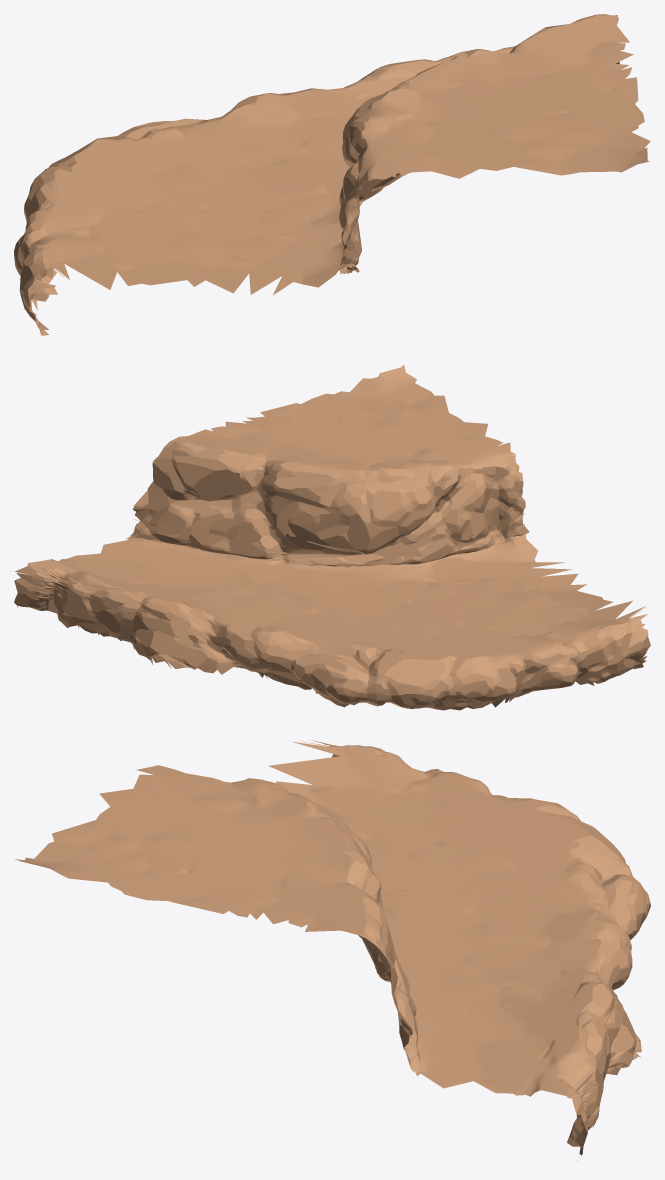
Rendered from SandstoneBig_Mesh_40_004LODs.fbx.
The picture shows the model from 3 angles, top to bottom: view 1: azimuth 30°, elevation 25°; view 2: azimuth 150°, elevation 25°; view 3: azimuth 270°, elevation 25°; orthographic projection. The views are drawn at different scales.
Parts seen in each view (by area): view 1: Mesh_40.004_LOD0; view 2: Mesh_40.004_LOD0; view 3: Mesh_40.004_LOD0.
Boxes of the visible parts, box(x1,y1,x2,y2) form: Mesh_40.004_LOD0: box(14, 14, 650, 335); Mesh_40.004_LOD0: box(14, 365, 650, 710); Mesh_40.004_LOD0: box(15, 740, 650, 1160).
Size of what is drawn, in the model's own units: 13981 by 3425 by 10417.
